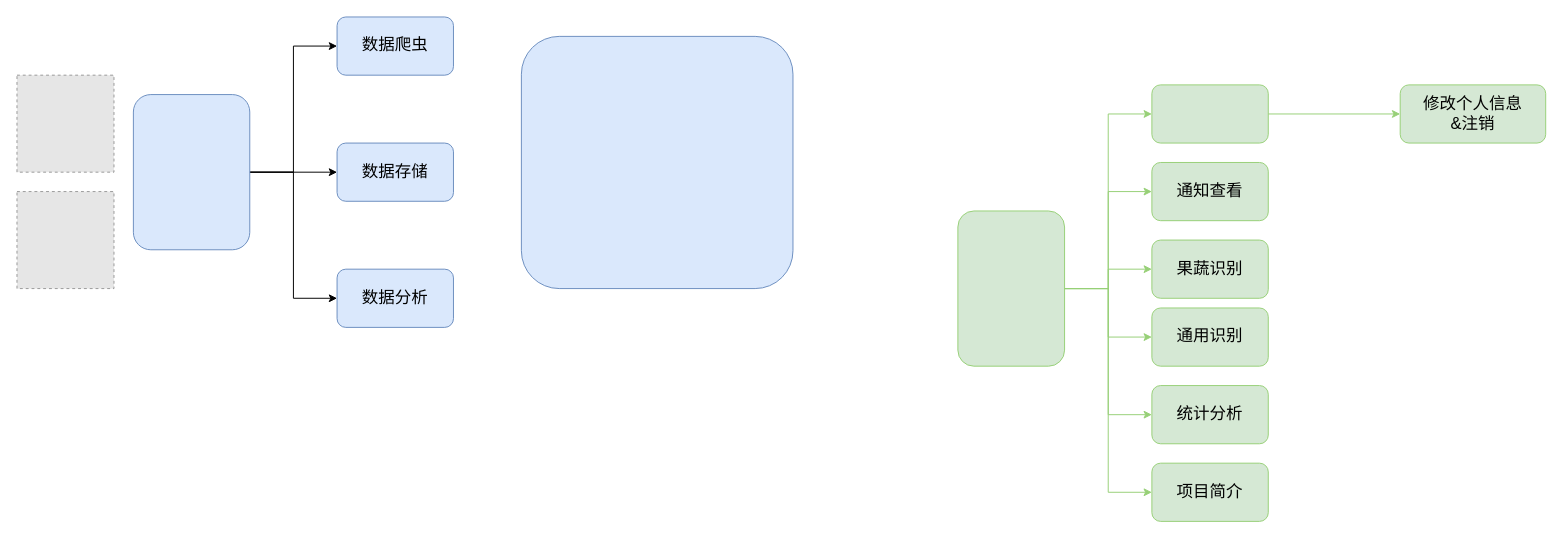
Some shapes in this 1563 by 538 pixel diagram are drawn without their labels. Grey dashed boxes stand in for pictures. The shapes that lost their labels are listed below. From the top down, each one's centre as x and y in pixels, then its label:
the point at 1209,113: 登录
the point at 191,172: Python Flask 实时疫情 数据分析系统
the point at 1011,288: 百度AI识别 H5移动端
